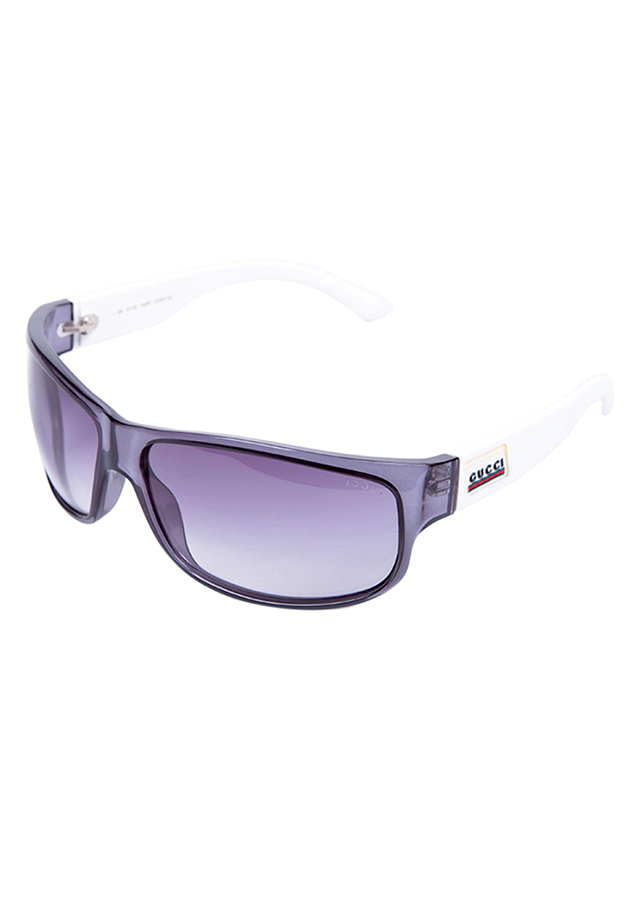Gucci: (461, 443, 515, 498)
